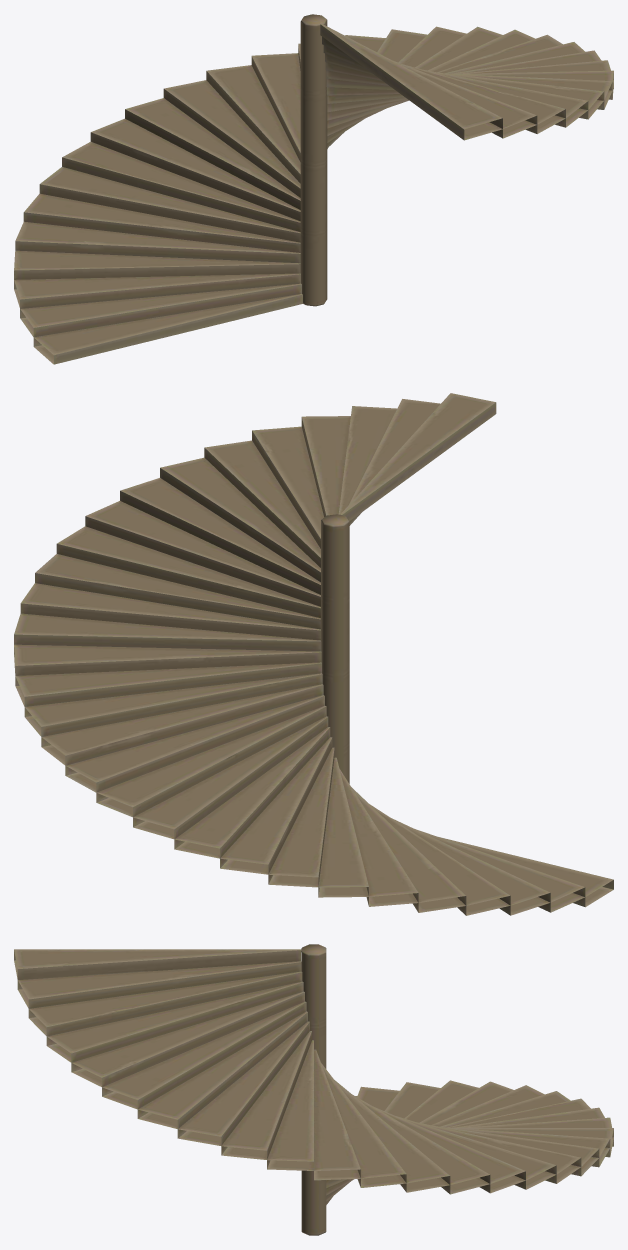
The model's file is ARC0510012.fbx.
The picture shows the model from 3 angles, top to bottom: view 1: azimuth 30°, elevation 25°; view 2: azimuth 150°, elevation 25°; view 3: azimuth 270°, elevation 25°; orthographic projection. The views are drawn at different scales.
Parts seen in each view (by area): view 1: smARC0510012; view 2: smARC0510012; view 3: smARC0510012.
Boxes of the visible parts, x1,y1,x2,y2 form: smARC0510012: (14, 14, 613, 364); smARC0510012: (14, 393, 613, 915); smARC0510012: (14, 944, 613, 1235).
Size of what is drawn, in the model's own units: 580 by 300 by 580.
1 material, 1 textured.
